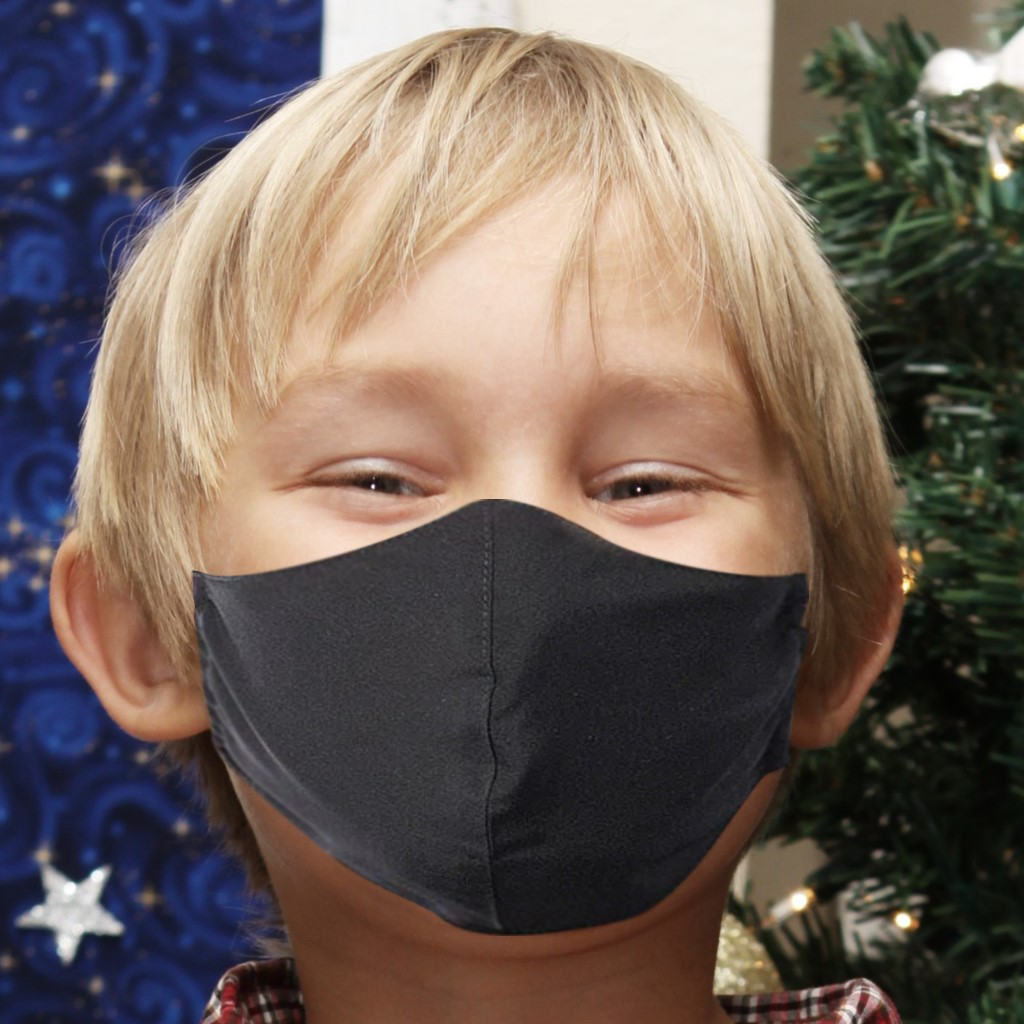con_mascara: (169, 129, 810, 951)
